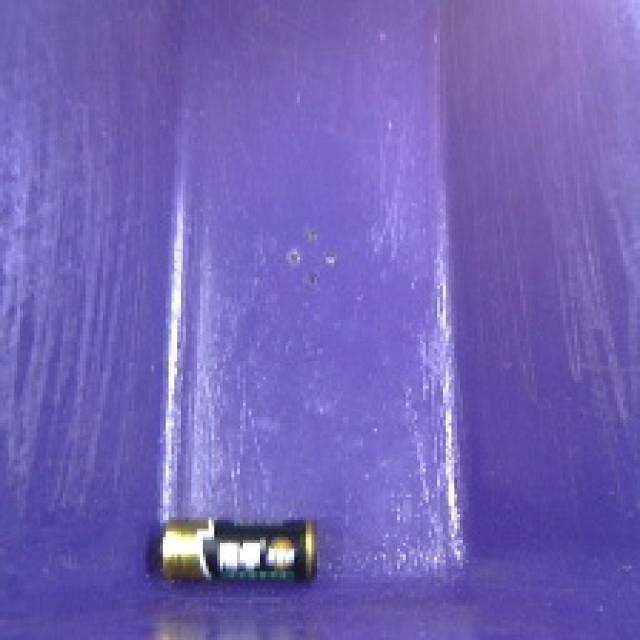battery: (140, 502, 327, 599)
